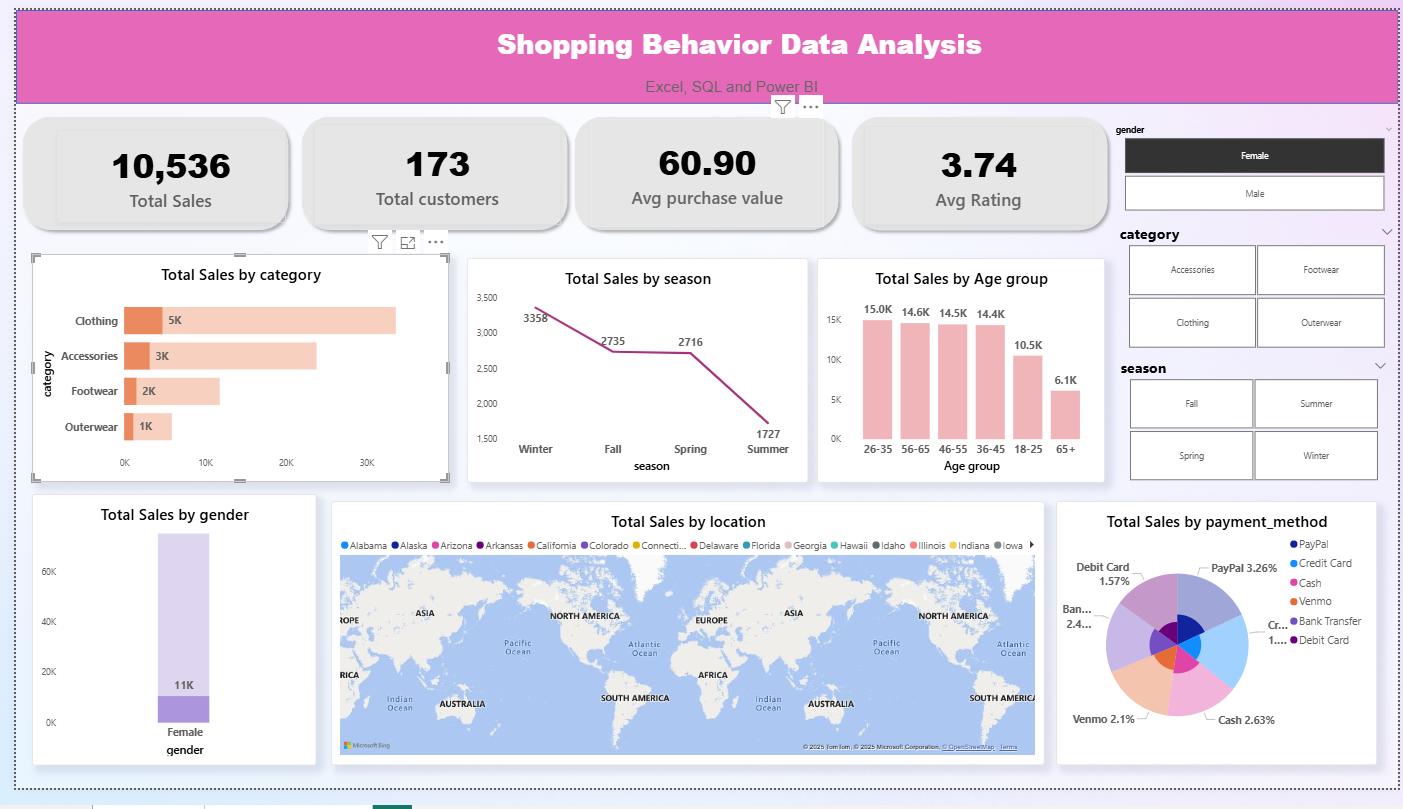

What the dashboard file says about the page in this screenshot:
{"tool":"powerbi","page":{"name":"shopping_db","canvas":[1920,1080],"ordinal":0},"visuals":[{"type":"shape","box":[0,0,1920,130],"z":0},{"type":"textbox","box":[611.4,15.7,787.1,64.3],"z":1000},{"type":"shape","box":[0,138.6,387.1,175.7],"z":2000},{"type":"shape","box":[1151.2,138.4,373.4,176],"z":3000},{"type":"shape","box":[767.1,138.6,384.3,175.7],"z":4000},{"type":"shape","box":[387.1,138.6,387.1,175.7],"z":5000},{"type":"card","fields":{"Values":["public shopping_data.Total Sales"]},"box":[55.7,167.1,318.6,128.6],"z":6000},{"type":"textbox","box":[821.4,90,347.1,40],"z":7000},{"type":"card","fields":{"Values":["public shopping_data.Total customers"]},"box":[414.3,158.6,342.9,140],"z":8000},{"type":"card","fields":{"Values":["public shopping_data.Avg Rating"]},"box":[1178.1,161.2,318.4,137],"z":9000},{"type":"card","fields":{"Values":["public shopping_data.Avg purchase value"]},"box":[797.1,151.4,325.7,150],"z":10000},{"type":"barChart","fields":{"Category":["public shopping_data.category"],"Y":["public shopping_data.Total Sales"]},"box":[22.8,338.5,579,317],"z":11000},{"type":"columnChart","fields":{"Category":["public shopping_data.gender"],"Y":["public shopping_data.Total Sales"]},"box":[22.8,671.6,394.9,377.5],"z":12000},{"type":"pieChart","fields":{"Y":["public shopping_data.Total Sales"],"Category":["public shopping_data.payment_method"]},"box":[1444,682.4,446,366.7],"z":13000},{"type":"lineChart","fields":{"Category":["public shopping_data.season"],"Y":["public shopping_data.Total Sales"]},"box":[626,343.9,474.2,311.6],"z":14000},{"type":"columnChart","fields":{"Category":["public shopping_data.Age group"],"Y":["public shopping_data.Total Sales"]},"box":[1112.2,343.9,400.3,311.6],"z":15000},{"type":"map","fields":{"Series":["public shopping_data.location"],"Size":["public shopping_data.Total Sales"]},"box":[437.9,682.4,991.3,366.7],"z":16000},{"type":"slicer","fields":{"Values":["public shopping_data.gender"]},"box":[1519.3,158.5,400.3,122.2],"z":17000},{"type":"slicer","fields":{"Values":["public shopping_data.category"]},"box":[1524.6,295.5,394.9,174.6],"z":18000},{"type":"slicer","fields":{"Values":["public shopping_data.season"]},"box":[1526,482.2,384.2,173.3],"z":19000}]}

Visuals, with their boxes in screenshot pixels (x1, y1, x2, y2), scaled from the page's 1920x1080 canvas onto the 1403x809 screenshot:
shape: <region>0, 0, 1402, 97</region>
textbox: <region>447, 12, 1022, 60</region>
shape: <region>0, 104, 283, 235</region>
shape: <region>841, 104, 1114, 236</region>
shape: <region>561, 104, 841, 235</region>
shape: <region>283, 104, 566, 235</region>
card - public shopping_data.Total Sales: <region>41, 125, 274, 222</region>
textbox: <region>600, 67, 854, 97</region>
card - public shopping_data.Total customers: <region>303, 119, 553, 224</region>
card - public shopping_data.Avg Rating: <region>861, 121, 1094, 223</region>
card - public shopping_data.Avg purchase value: <region>582, 113, 820, 226</region>
barChart - public shopping_data.category x public shopping_data.Total Sales: <region>17, 254, 440, 491</region>
columnChart - public shopping_data.gender x public shopping_data.Total Sales: <region>17, 503, 305, 786</region>
pieChart - public shopping_data.Total Sales x public shopping_data.payment_method: <region>1055, 511, 1381, 786</region>
lineChart - public shopping_data.season x public shopping_data.Total Sales: <region>457, 258, 804, 491</region>
columnChart - public shopping_data.Age group x public shopping_data.Total Sales: <region>813, 258, 1105, 491</region>
map - public shopping_data.location x public shopping_data.Total Sales: <region>320, 511, 1044, 786</region>
slicer - public shopping_data.gender: <region>1110, 119, 1402, 210</region>
slicer - public shopping_data.category: <region>1114, 221, 1402, 352</region>
slicer - public shopping_data.season: <region>1115, 361, 1396, 491</region>
